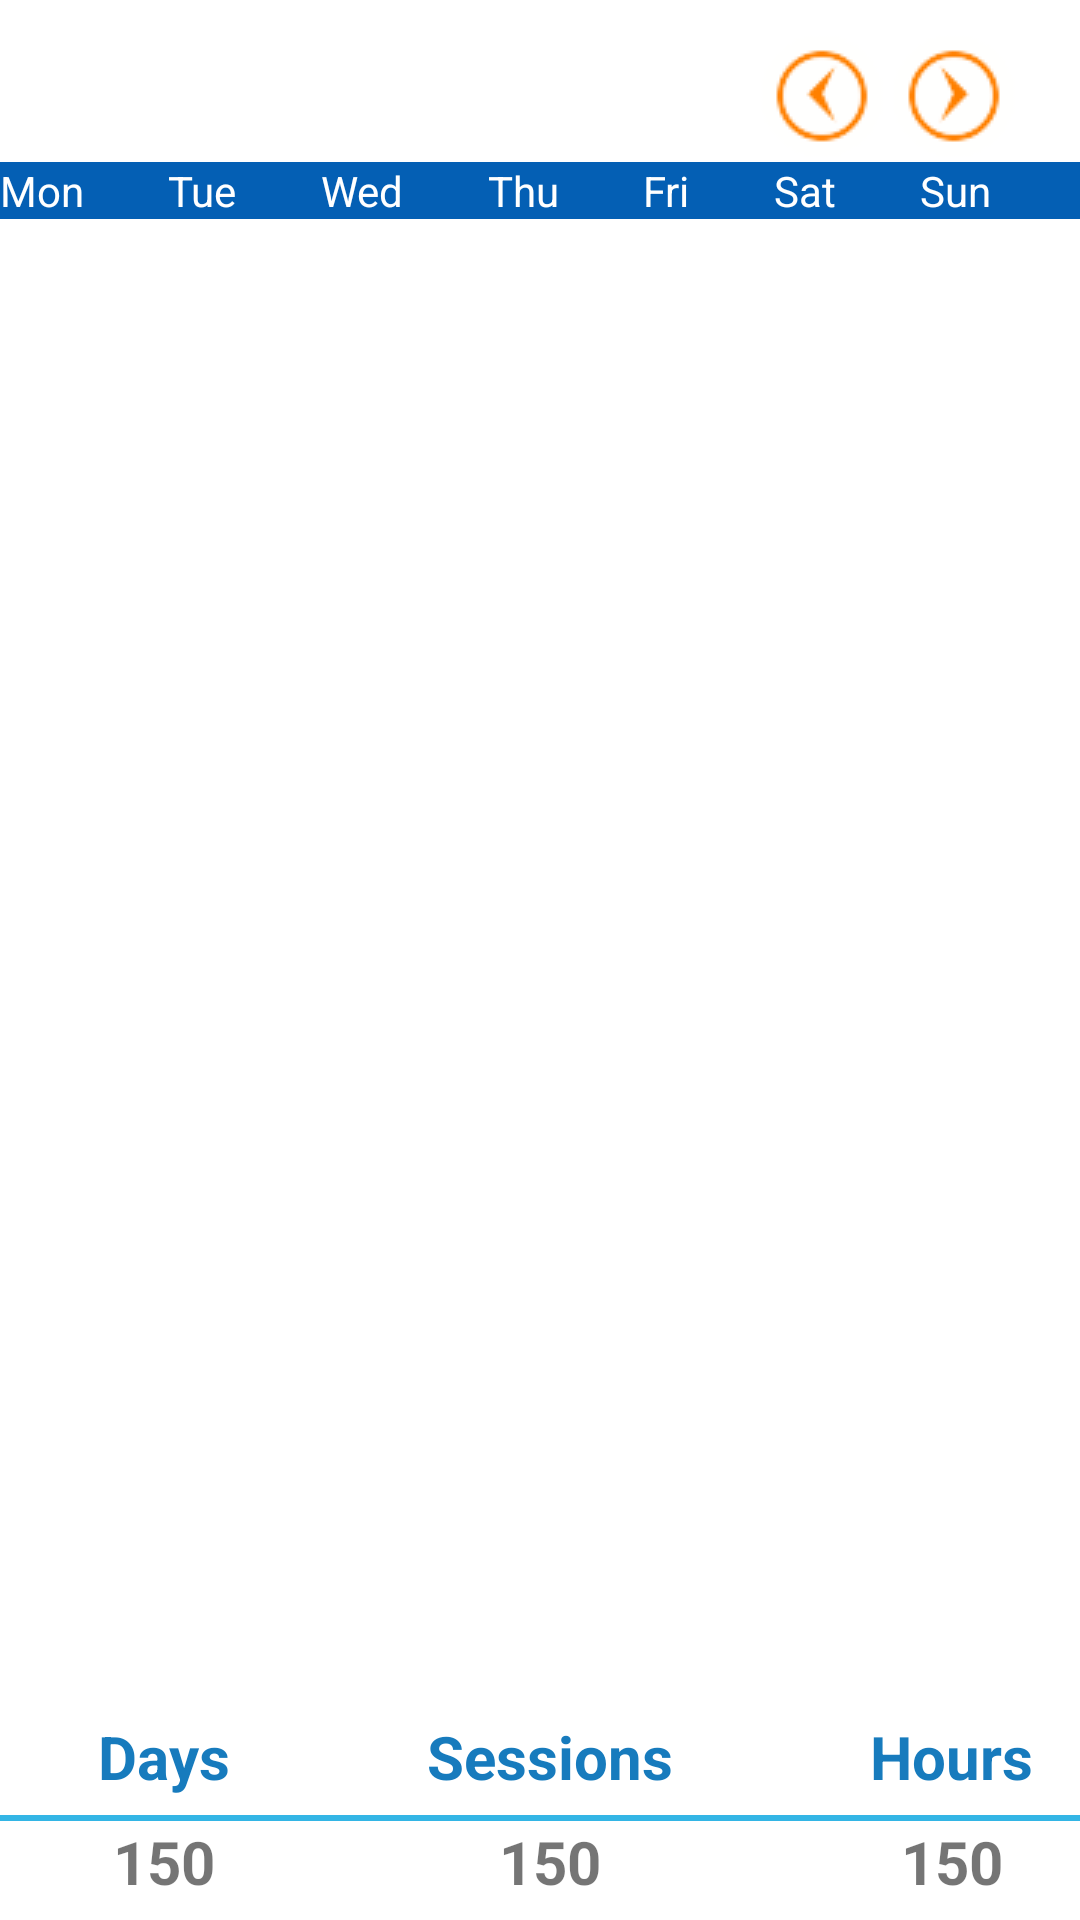

Named icons in this screenshot (1080 x 1920) and their bounding boxes, (x1, y1, x2, y2):
next: (908, 50, 1000, 142)
previous: (776, 50, 868, 142)
